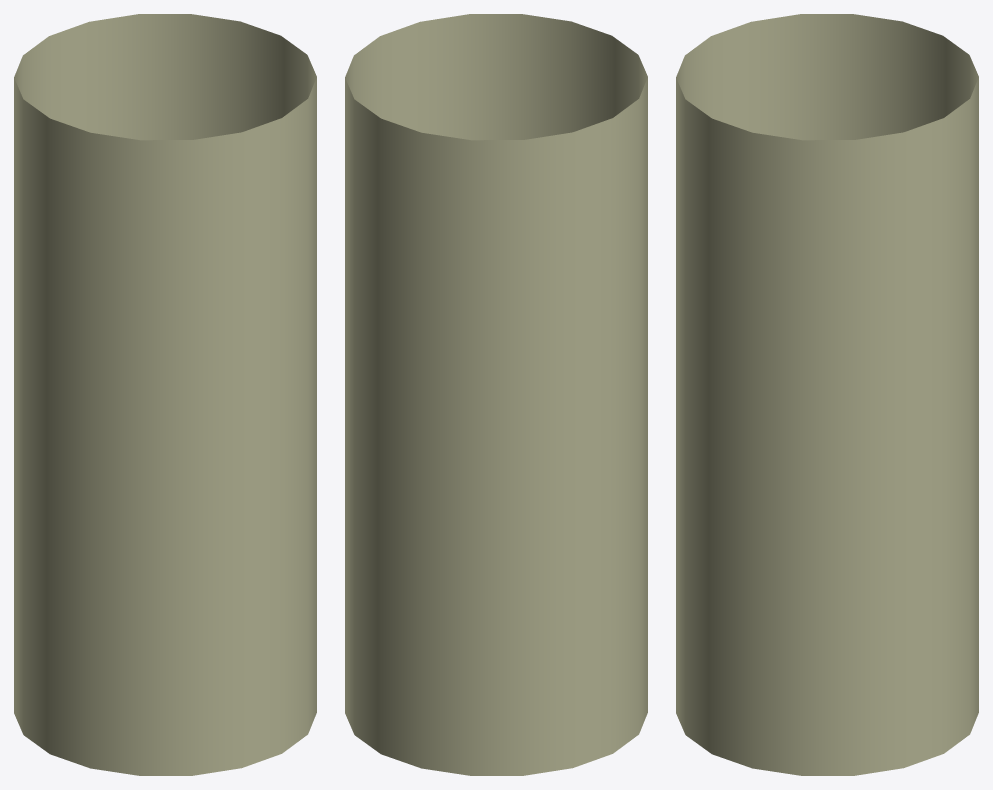
The model's file is Tube_msh_yellow.fbx.
3 views of the same model, side by side, from view 1: azimuth 30°, elevation 25°; view 2: azimuth 150°, elevation 25°; view 3: azimuth 270°, elevation 25° (orthographic).
Visible parts, largest first — view 1: Tube_msh; view 2: Tube_msh; view 3: Tube_msh.
Part boxes in pixels (x1=…): Tube_msh: x1=14, y1=14, x2=316, y2=775; Tube_msh: x1=345, y1=14, x2=647, y2=775; Tube_msh: x1=676, y1=14, x2=978, y2=775.
Size of the model in its own units: 85.46 by 201 by 86.7.
